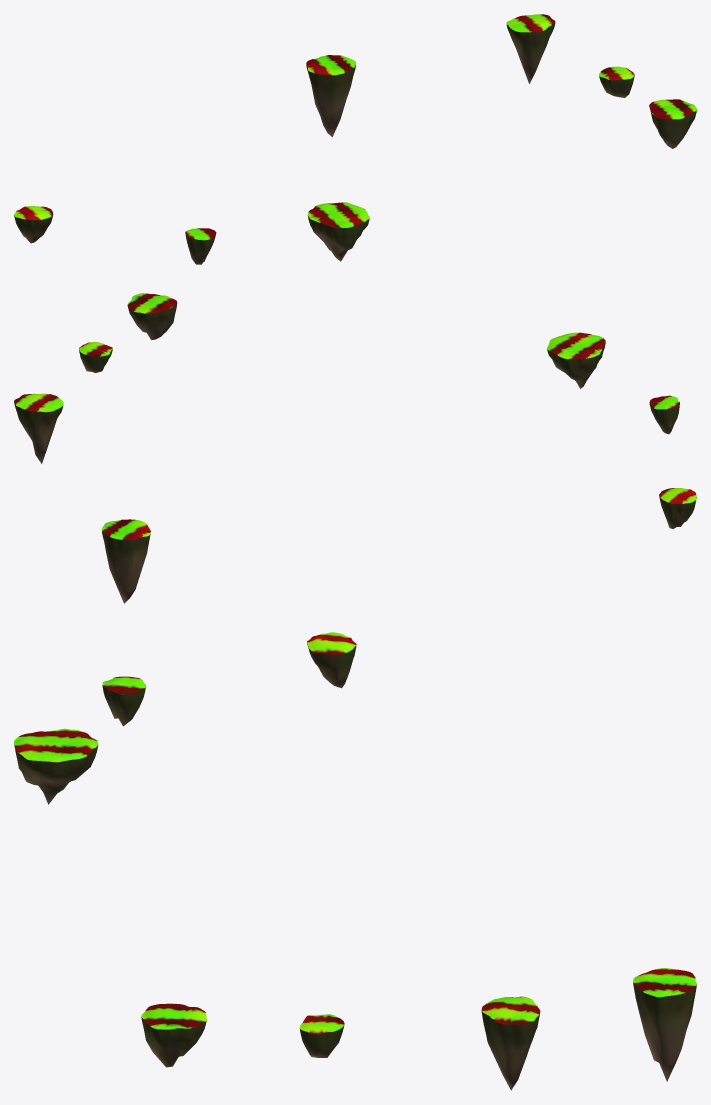
The model's file is SM_H06_Floaters.fbx.
The picture shows the model from 3 angles, top to bottom: view 1: azimuth 30°, elevation 25°; view 2: azimuth 150°, elevation 25°; view 3: azimuth 270°, elevation 25°; orthographic projection. The views are drawn at different scales.
Parts seen in each view (by area): view 1: SM_H06_Floaters; view 2: SM_H06_Floaters; view 3: SM_H06_Floaters.
Part boxes in pixels (<box>): SM_H06_Floaters: <box>14,14,696,264</box>; SM_H06_Floaters: <box>14,293,696,603</box>; SM_H06_Floaters: <box>14,632,696,1090</box>.
Size of the model in its own units: 320 by 71.44 by 228.
